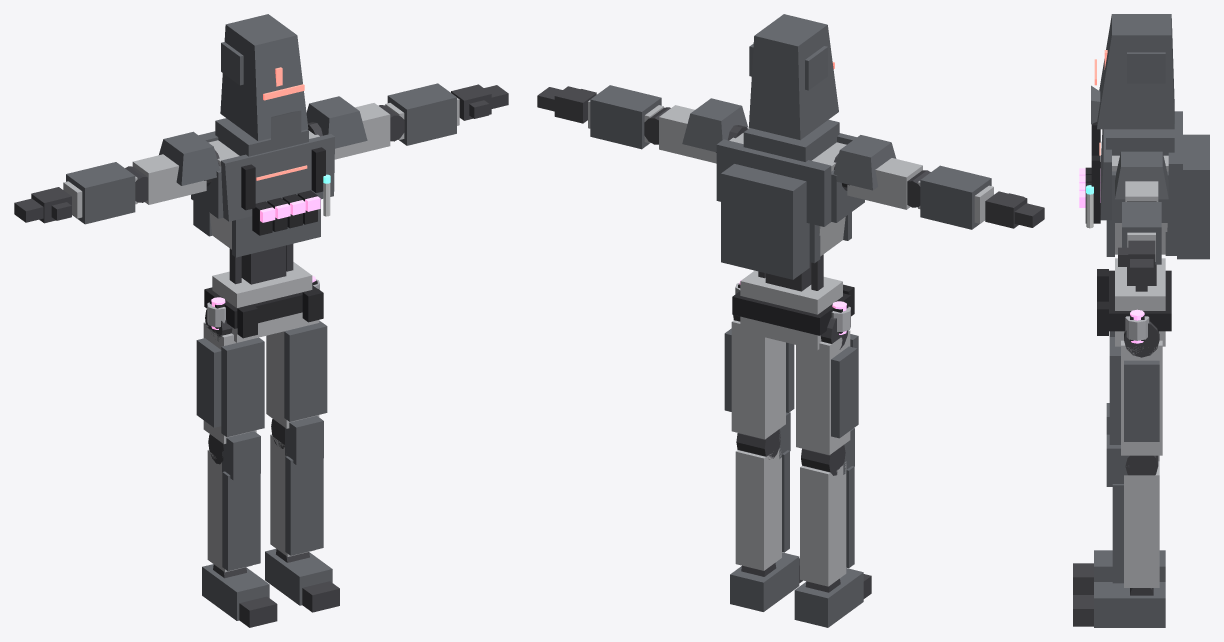
Rendered from char_F2_rifleman.glb.
3 renders of one model, left to right at view 1: azimuth 30°, elevation 25°; view 2: azimuth 150°, elevation 25°; view 3: azimuth 270°, elevation 25°, orthographic. The views are drawn at different scales.
Parts seen in each view (by area): view 1: UpperChest_mesh, Head_mesh, LeftLowerLeg_mesh, RightLowerLeg_mesh, RightUpperLeg_mesh, Hips_mesh, LeftUpperLeg_mesh, RightUpperArm_mesh, RightLowerArm_mesh, LeftLowerArm_mesh, LeftUpperArm_mesh, Chest_mesh (+7 smaller); view 2: UpperChest_mesh, Head_mesh, LeftLowerLeg_mesh, RightLowerLeg_mesh, RightUpperLeg_mesh, LeftUpperLeg_mesh, Hips_mesh, RightUpperArm_mesh, RightLowerArm_mesh, LeftUpperArm_mesh, LeftLowerArm_mesh, RightFoot_mesh (+5 smaller); view 3: UpperChest_mesh, Head_mesh, LeftLowerLeg_mesh, LeftUpperLeg_mesh, Hips_mesh, LeftFoot_mesh, LeftUpperArm_mesh, LeftLowerArm_mesh, LeftHand_mesh, Chest_mesh, RightFoot_mesh, LeftToes_mesh (+4 smaller).
Boxes of the visible parts, x1,y1,x2,y2 form: UpperChest_mesh: [191, 118, 334, 236]; Head_mesh: [220, 14, 308, 141]; LeftLowerLeg_mesh: [270, 416, 323, 556]; RightLowerLeg_mesh: [207, 431, 260, 572]; RightUpperLeg_mesh: [196, 309, 264, 443]; Hips_mesh: [204, 262, 323, 342]; LeftUpperLeg_mesh: [266, 320, 327, 428]; RightUpperArm_mesh: [132, 131, 219, 204]; RightLowerArm_mesh: [63, 162, 147, 224]; LeftLowerArm_mesh: [378, 83, 459, 145]; LeftUpperArm_mesh: [306, 96, 390, 159]; Chest_mesh: [204, 199, 320, 257]; UpperChest_mesh: [716, 115, 864, 279]; Head_mesh: [749, 14, 838, 140]; LeftLowerLeg_mesh: [735, 412, 790, 570]; RightLowerLeg_mesh: [800, 428, 854, 586]; RightUpperLeg_mesh: [796, 317, 858, 454]; LeftUpperLeg_mesh: [724, 315, 794, 439]; Hips_mesh: [732, 270, 854, 350]; RightUpperArm_mesh: [833, 135, 922, 209]; RightLowerArm_mesh: [907, 165, 993, 229]; LeftUpperArm_mesh: [659, 98, 747, 163]; LeftLowerArm_mesh: [588, 85, 670, 149]; RightFoot_mesh: [794, 568, 863, 627]; UpperChest_mesh: [1085, 111, 1209, 259]; Head_mesh: [1091, 14, 1174, 129]; LeftLowerLeg_mesh: [1106, 434, 1159, 587]; LeftUpperLeg_mesh: [1109, 321, 1162, 455]; Hips_mesh: [1097, 258, 1171, 346]; LeftFoot_mesh: [1094, 582, 1165, 627]; LeftUpperArm_mesh: [1115, 151, 1168, 201]; LeftLowerArm_mesh: [1122, 201, 1161, 264]; LeftHand_mesh: [1118, 240, 1155, 279]; Chest_mesh: [1106, 220, 1176, 256]; RightFoot_mesh: [1094, 550, 1165, 581]; LeftToes_mesh: [1073, 595, 1093, 626].
Size of the model in its own units: 1.69 by 1.88 by 0.403.
